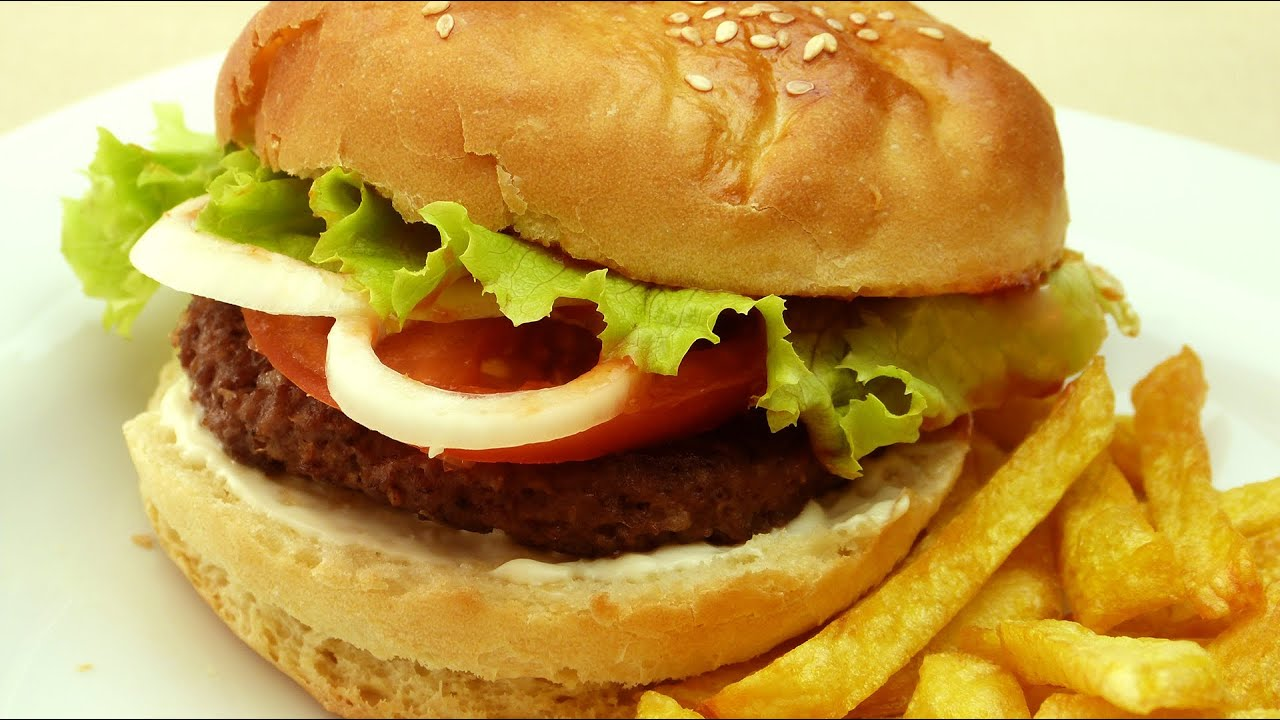hamburger_buns: (158, 1, 1051, 603)
